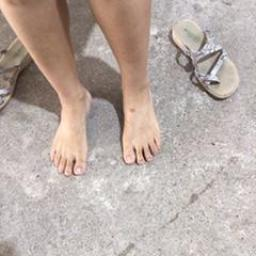Dorsal View -Both Feet-: (32, 66, 172, 186)
